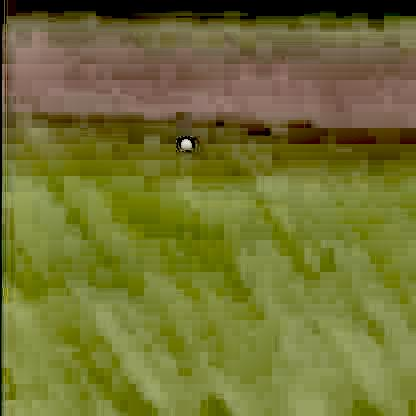golfball: (177, 134, 188, 145)
